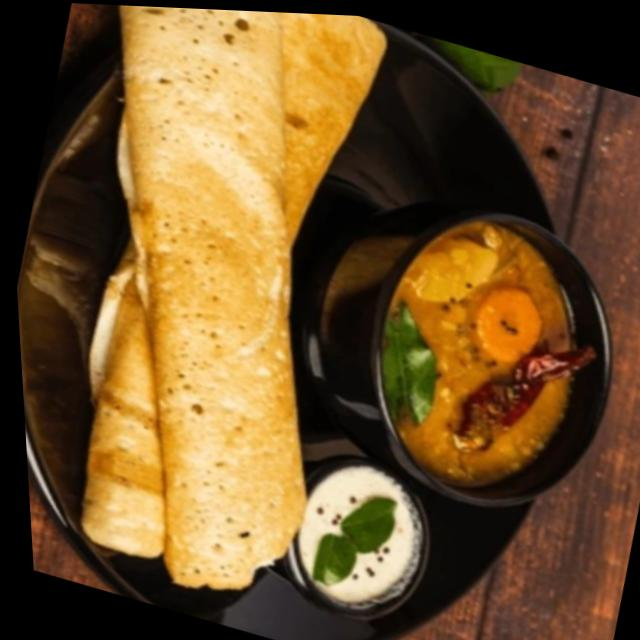DOSA: (82, 5, 387, 591)
SAMBAR: (382, 227, 576, 485)
WHITE CHUTNEY: (294, 466, 413, 604)
